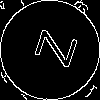Z: (25, 25, 78, 69)
